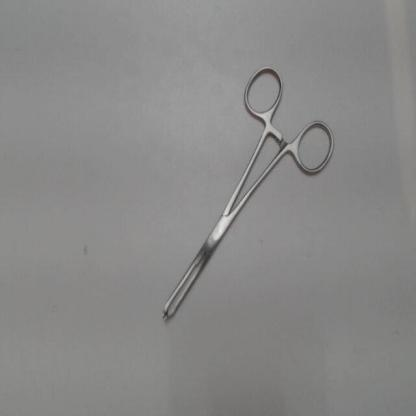Allis Tissue Forceps: (154, 57, 342, 330)
